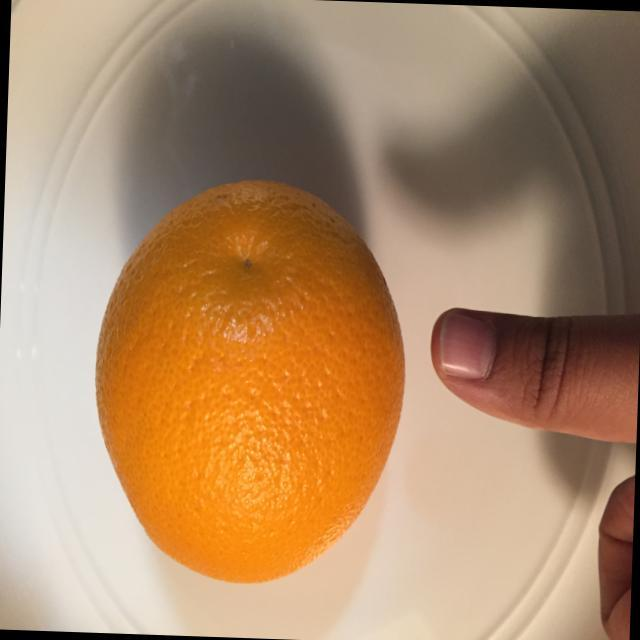Finger: (426, 297, 602, 443)
Orange: (76, 157, 422, 607)
